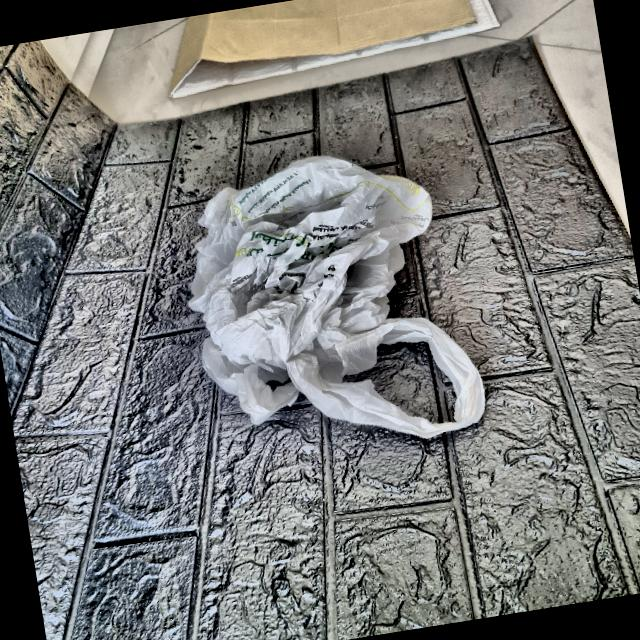plastic bag: (177, 148, 488, 476)
